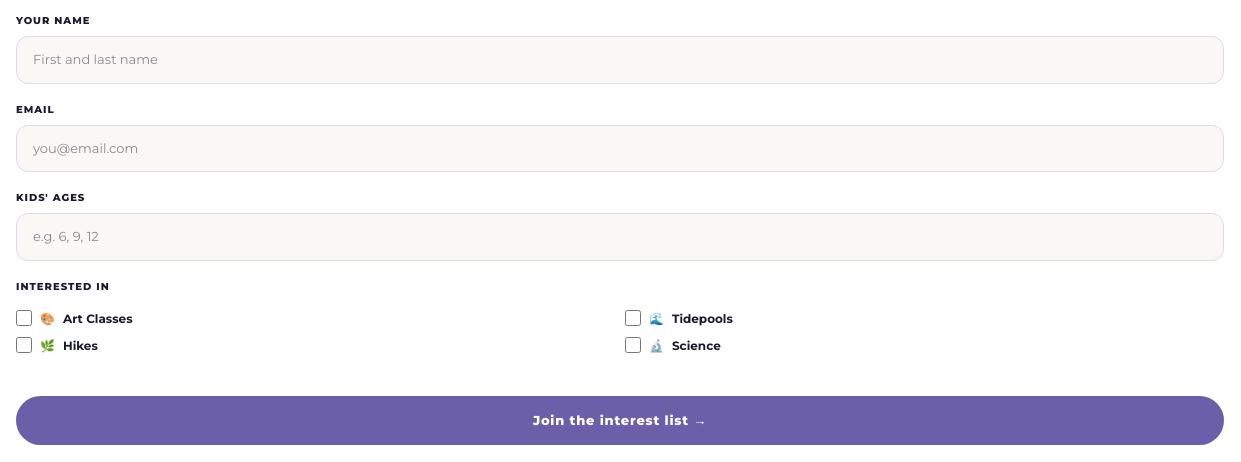
Test: submitting swaps the form for the success state
Type "Robin Parent" into the field labelled "Your name" at x=620, y=60, box x1=16 y1=36 x2=1224 y2=84
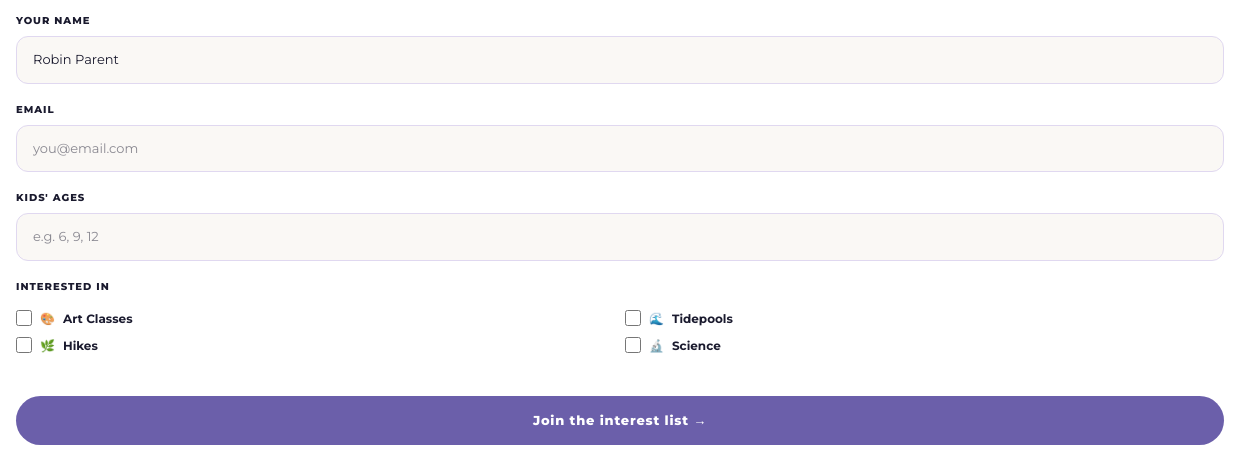
Type "robin@example.com" into the field labelled "Email" at x=620, y=148, box x1=16 y1=124 x2=1224 y2=172
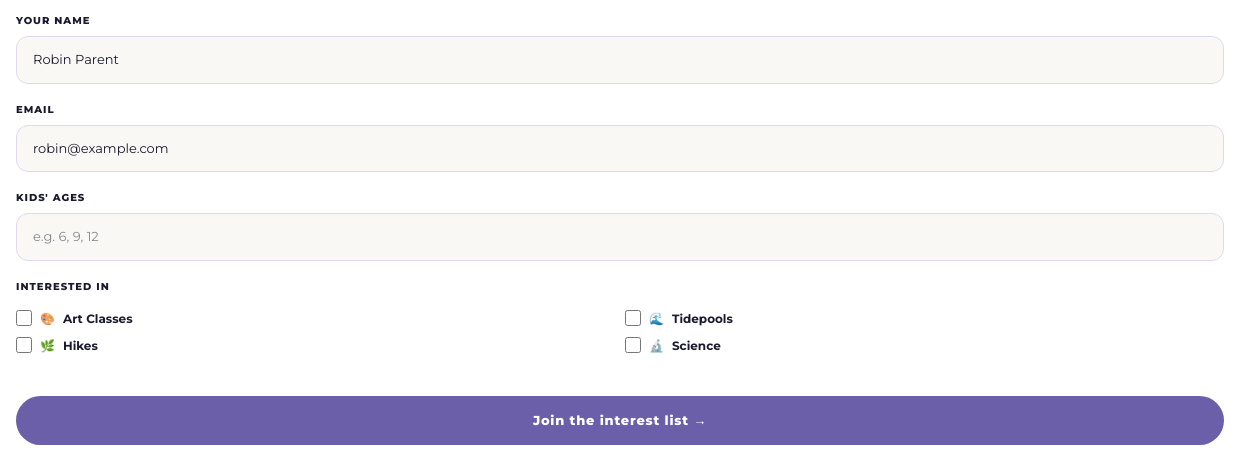
Click the checkbox labelled "🌊 Tidepools" at x=633, y=318, box x1=625 y1=310 x2=641 y2=326
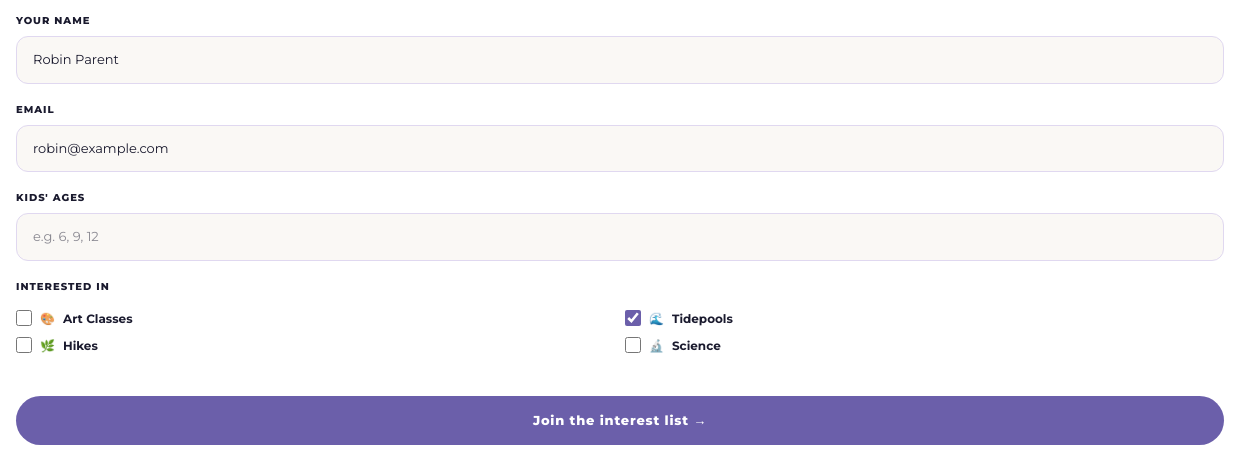
Click the button "Join the interest list →" at x=620, y=421, box x1=16 y1=396 x2=1224 y2=445
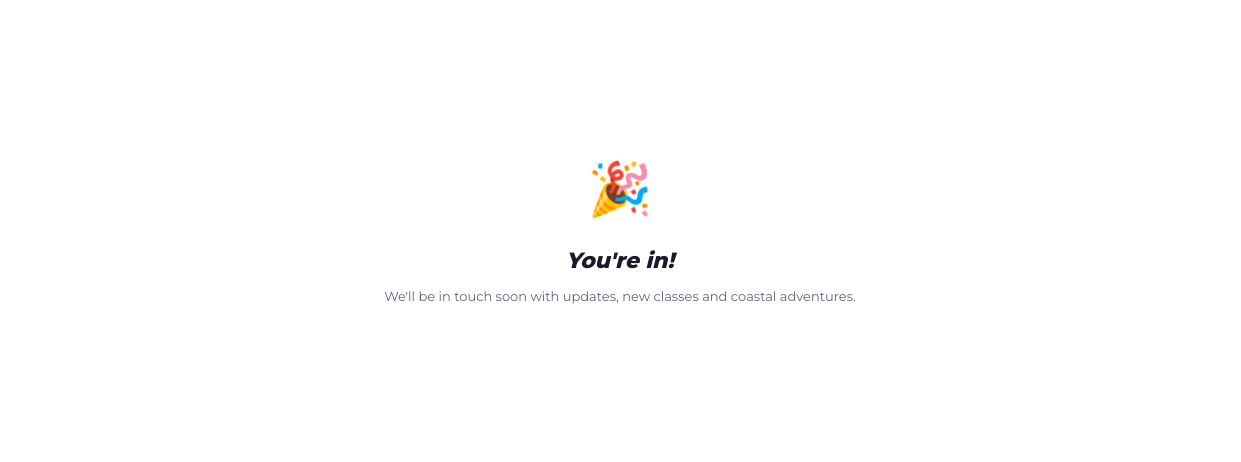
Expected: the message shows "You're in!", x1=566 y1=248 x2=674 y2=274
Expected: the button "Join the interest list" is gone
